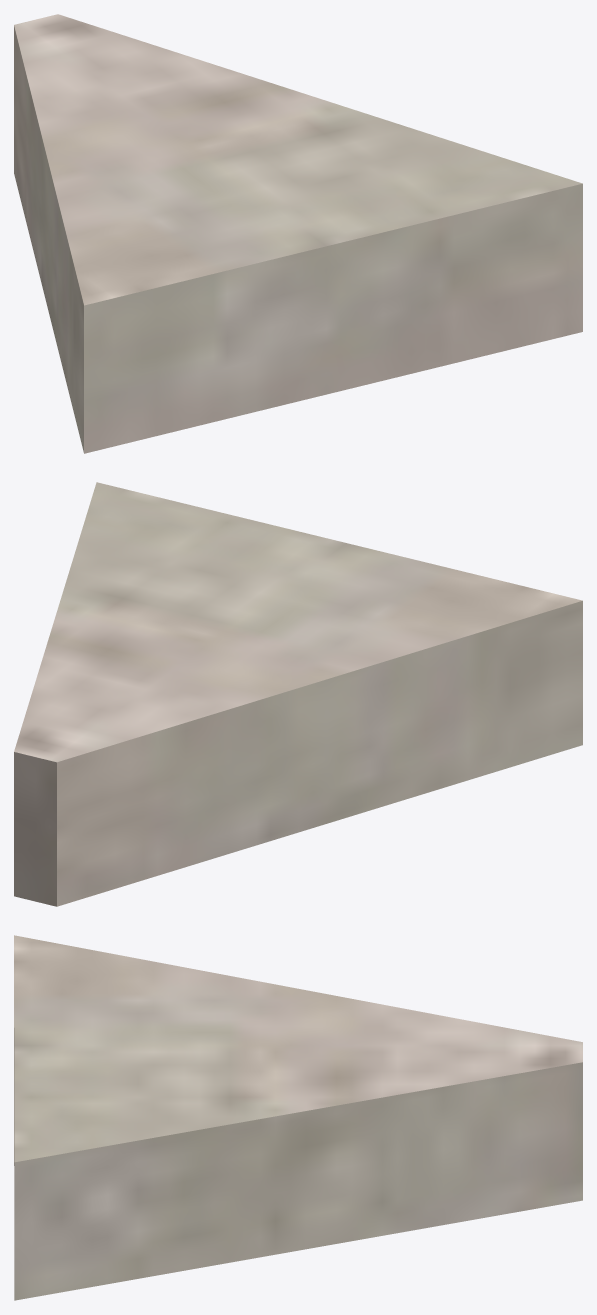
File: pasted__marble_tile_97.fbx
3 renders of one model, top to bottom at view 1: azimuth 30°, elevation 25°; view 2: azimuth 150°, elevation 25°; view 3: azimuth 270°, elevation 25°, orthographic. The views are drawn at different scales.
Visible parts, largest first — view 1: pasted__marble_tile_97; view 2: pasted__marble_tile_97; view 3: pasted__marble_tile_97.
Boxes of the visible parts, bbox=[...] form: pasted__marble_tile_97: bbox=[14, 14, 582, 453]; pasted__marble_tile_97: bbox=[14, 482, 582, 906]; pasted__marble_tile_97: bbox=[14, 935, 582, 1300].
Size of the model in its own units: 10.57 by 11.19 by 3.
